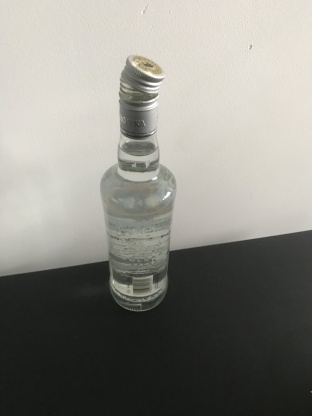nakretka: (117, 52, 166, 141)
